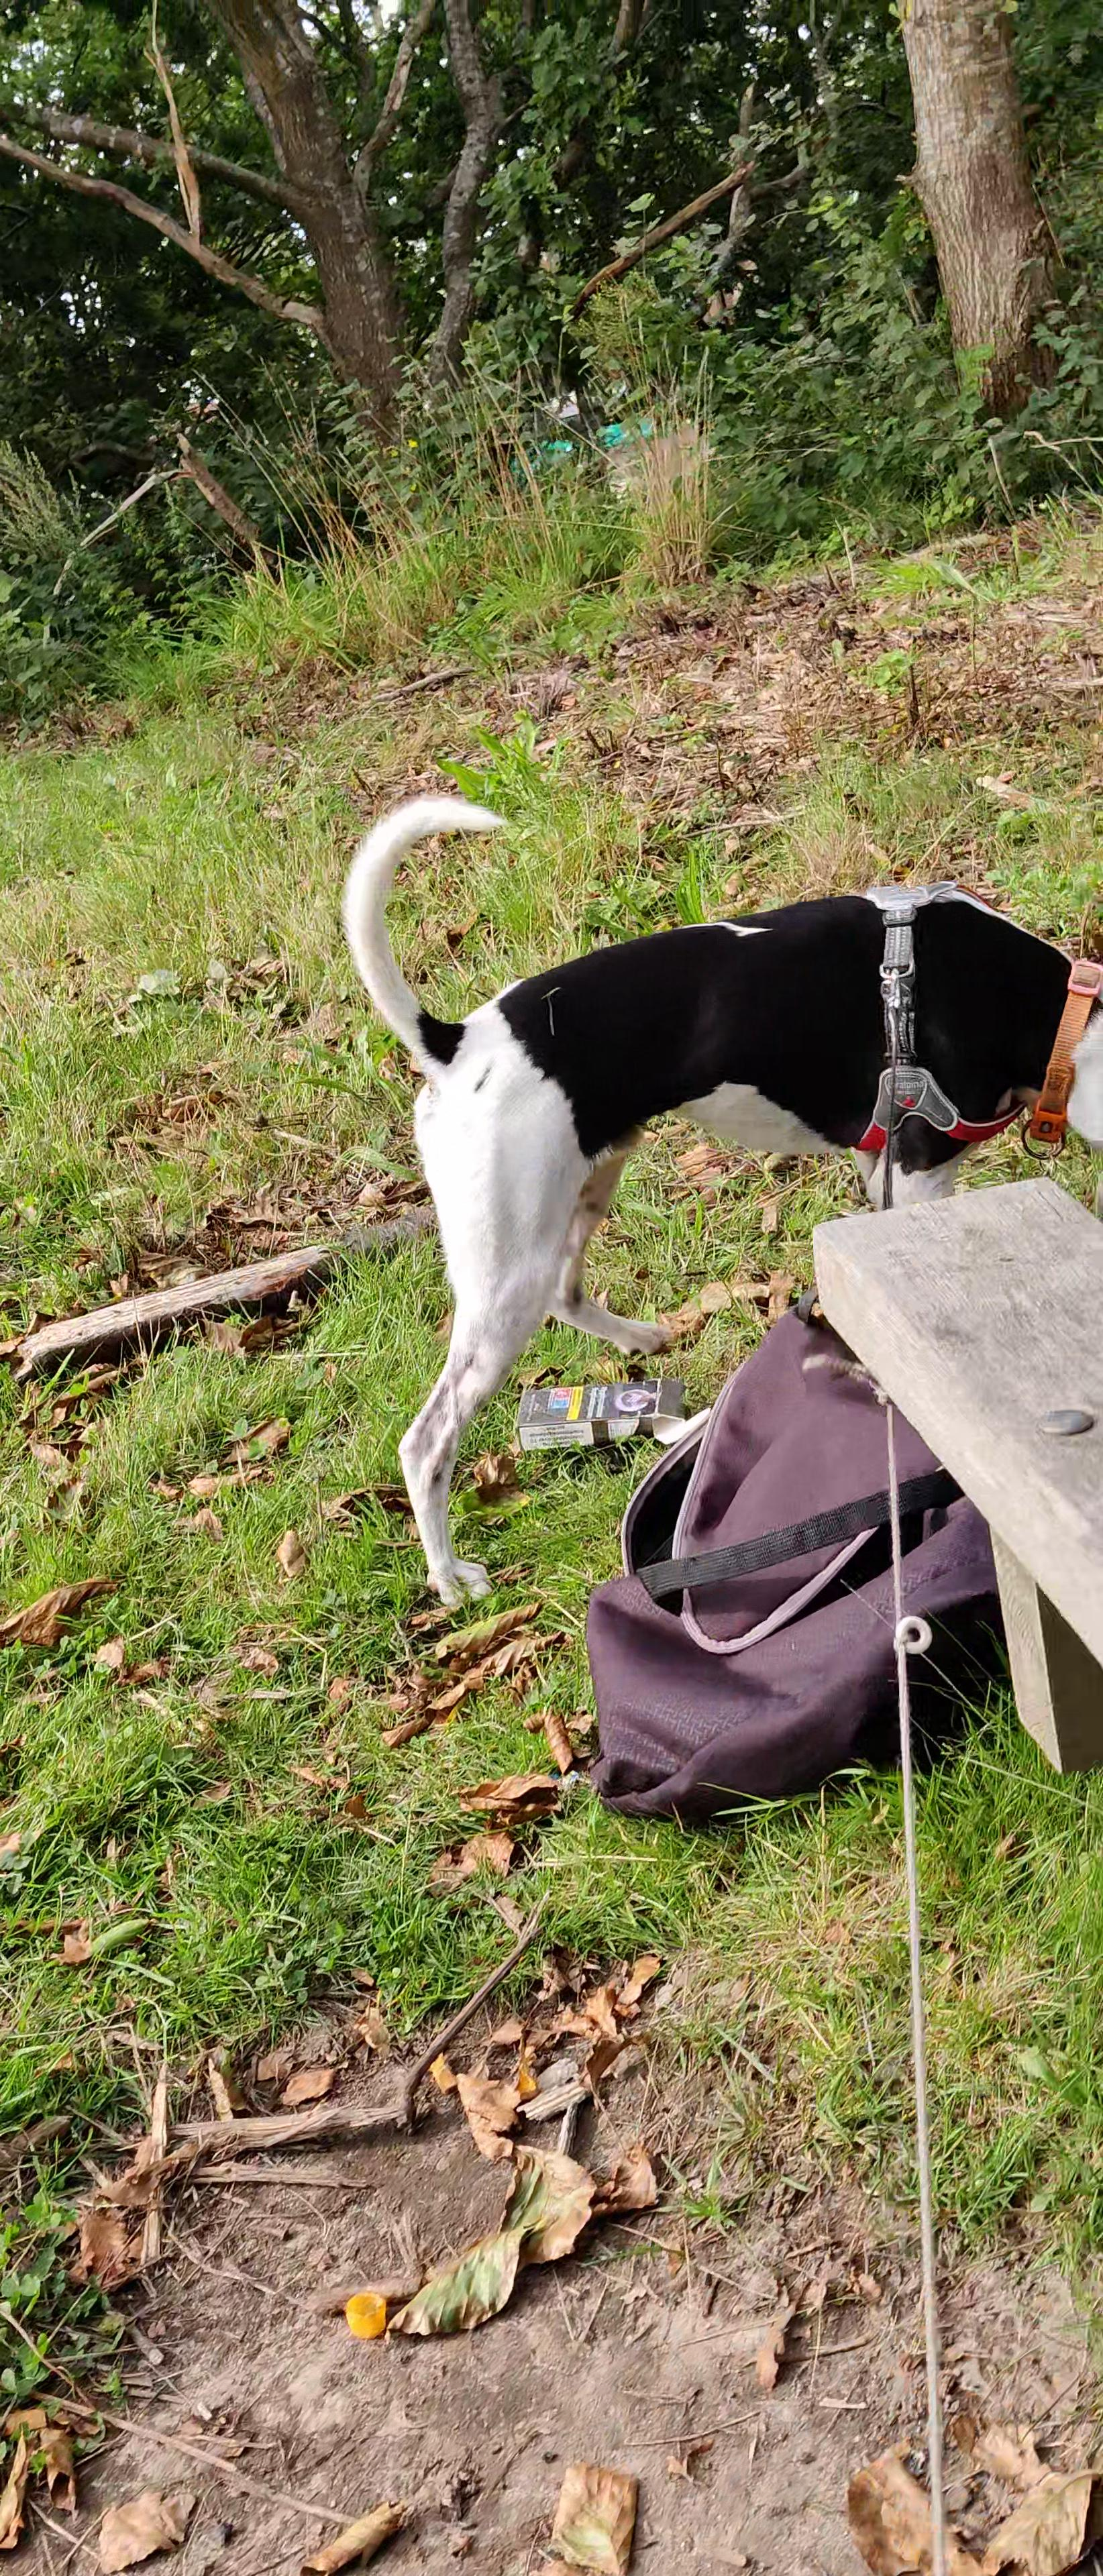Dog: (339, 790, 1103, 1613)
